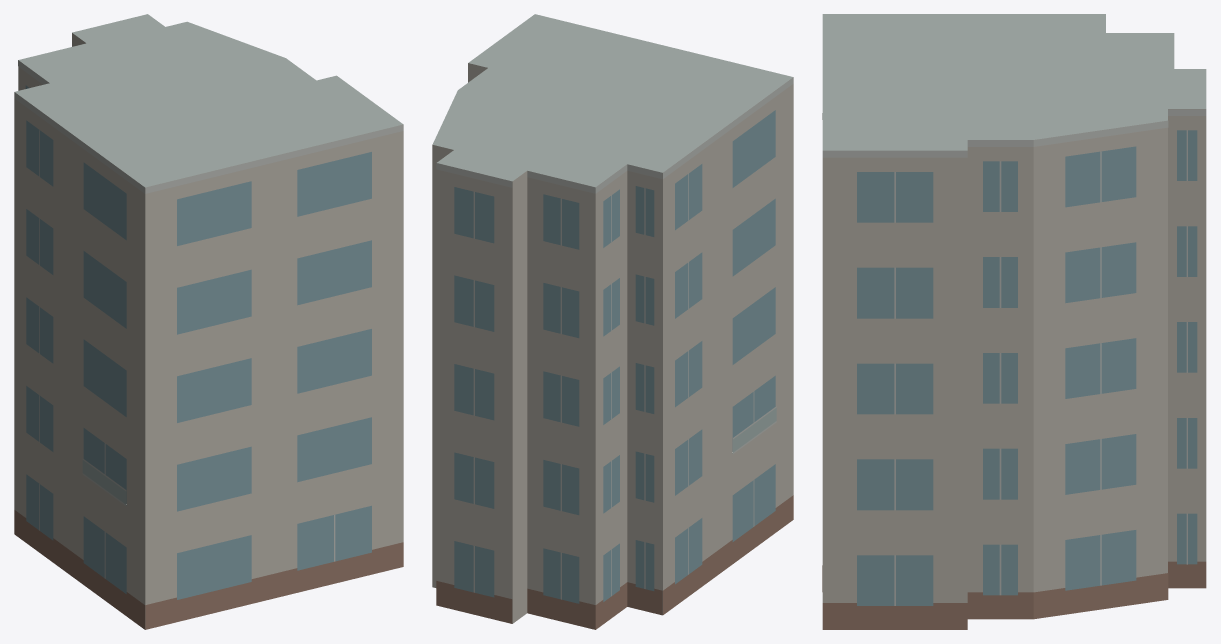
Rendered from survey-upis-32726704.glb.
3 renders of one model, left to right at view 1: azimuth 30°, elevation 25°; view 2: azimuth 150°, elevation 25°; view 3: azimuth 270°, elevation 25°, orthographic. The views are drawn at different scales.
Parts seen in each view (by area): view 1: survey-upis-32726704.tmp; view 2: survey-upis-32726704.tmp; view 3: survey-upis-32726704.tmp.
Boxes of the visible parts, x1=… form: survey-upis-32726704.tmp: x1=14, y1=14, x2=403, y2=629; survey-upis-32726704.tmp: x1=432, y1=14, x2=793, y2=629; survey-upis-32726704.tmp: x1=822, y1=14, x2=1206, y2=629.
Bounding box in the file's own units: 10.26 × 16.7 × 12.14.
